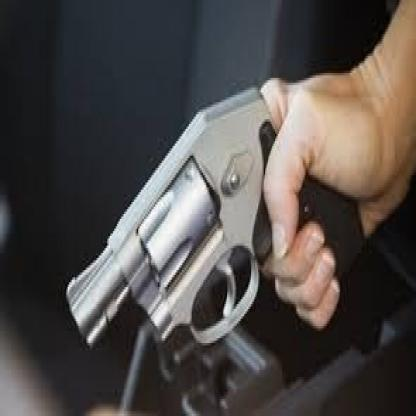Pistol: (62, 76, 384, 356)
